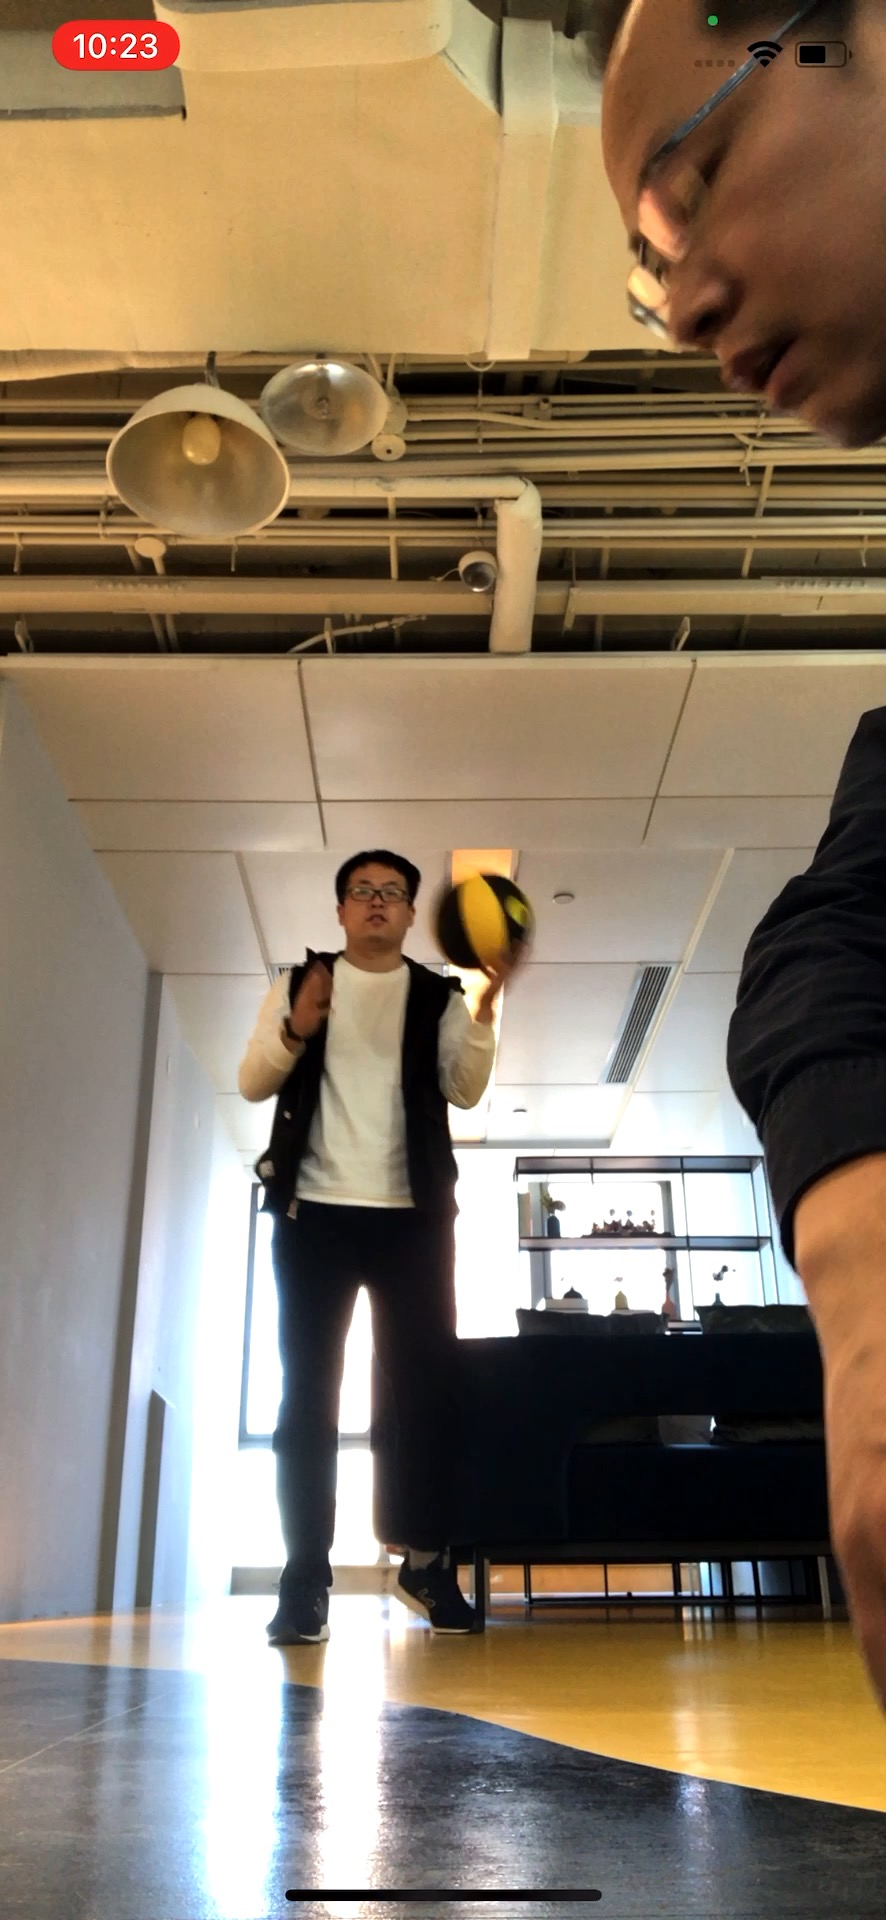ball: (437, 869, 534, 972)
